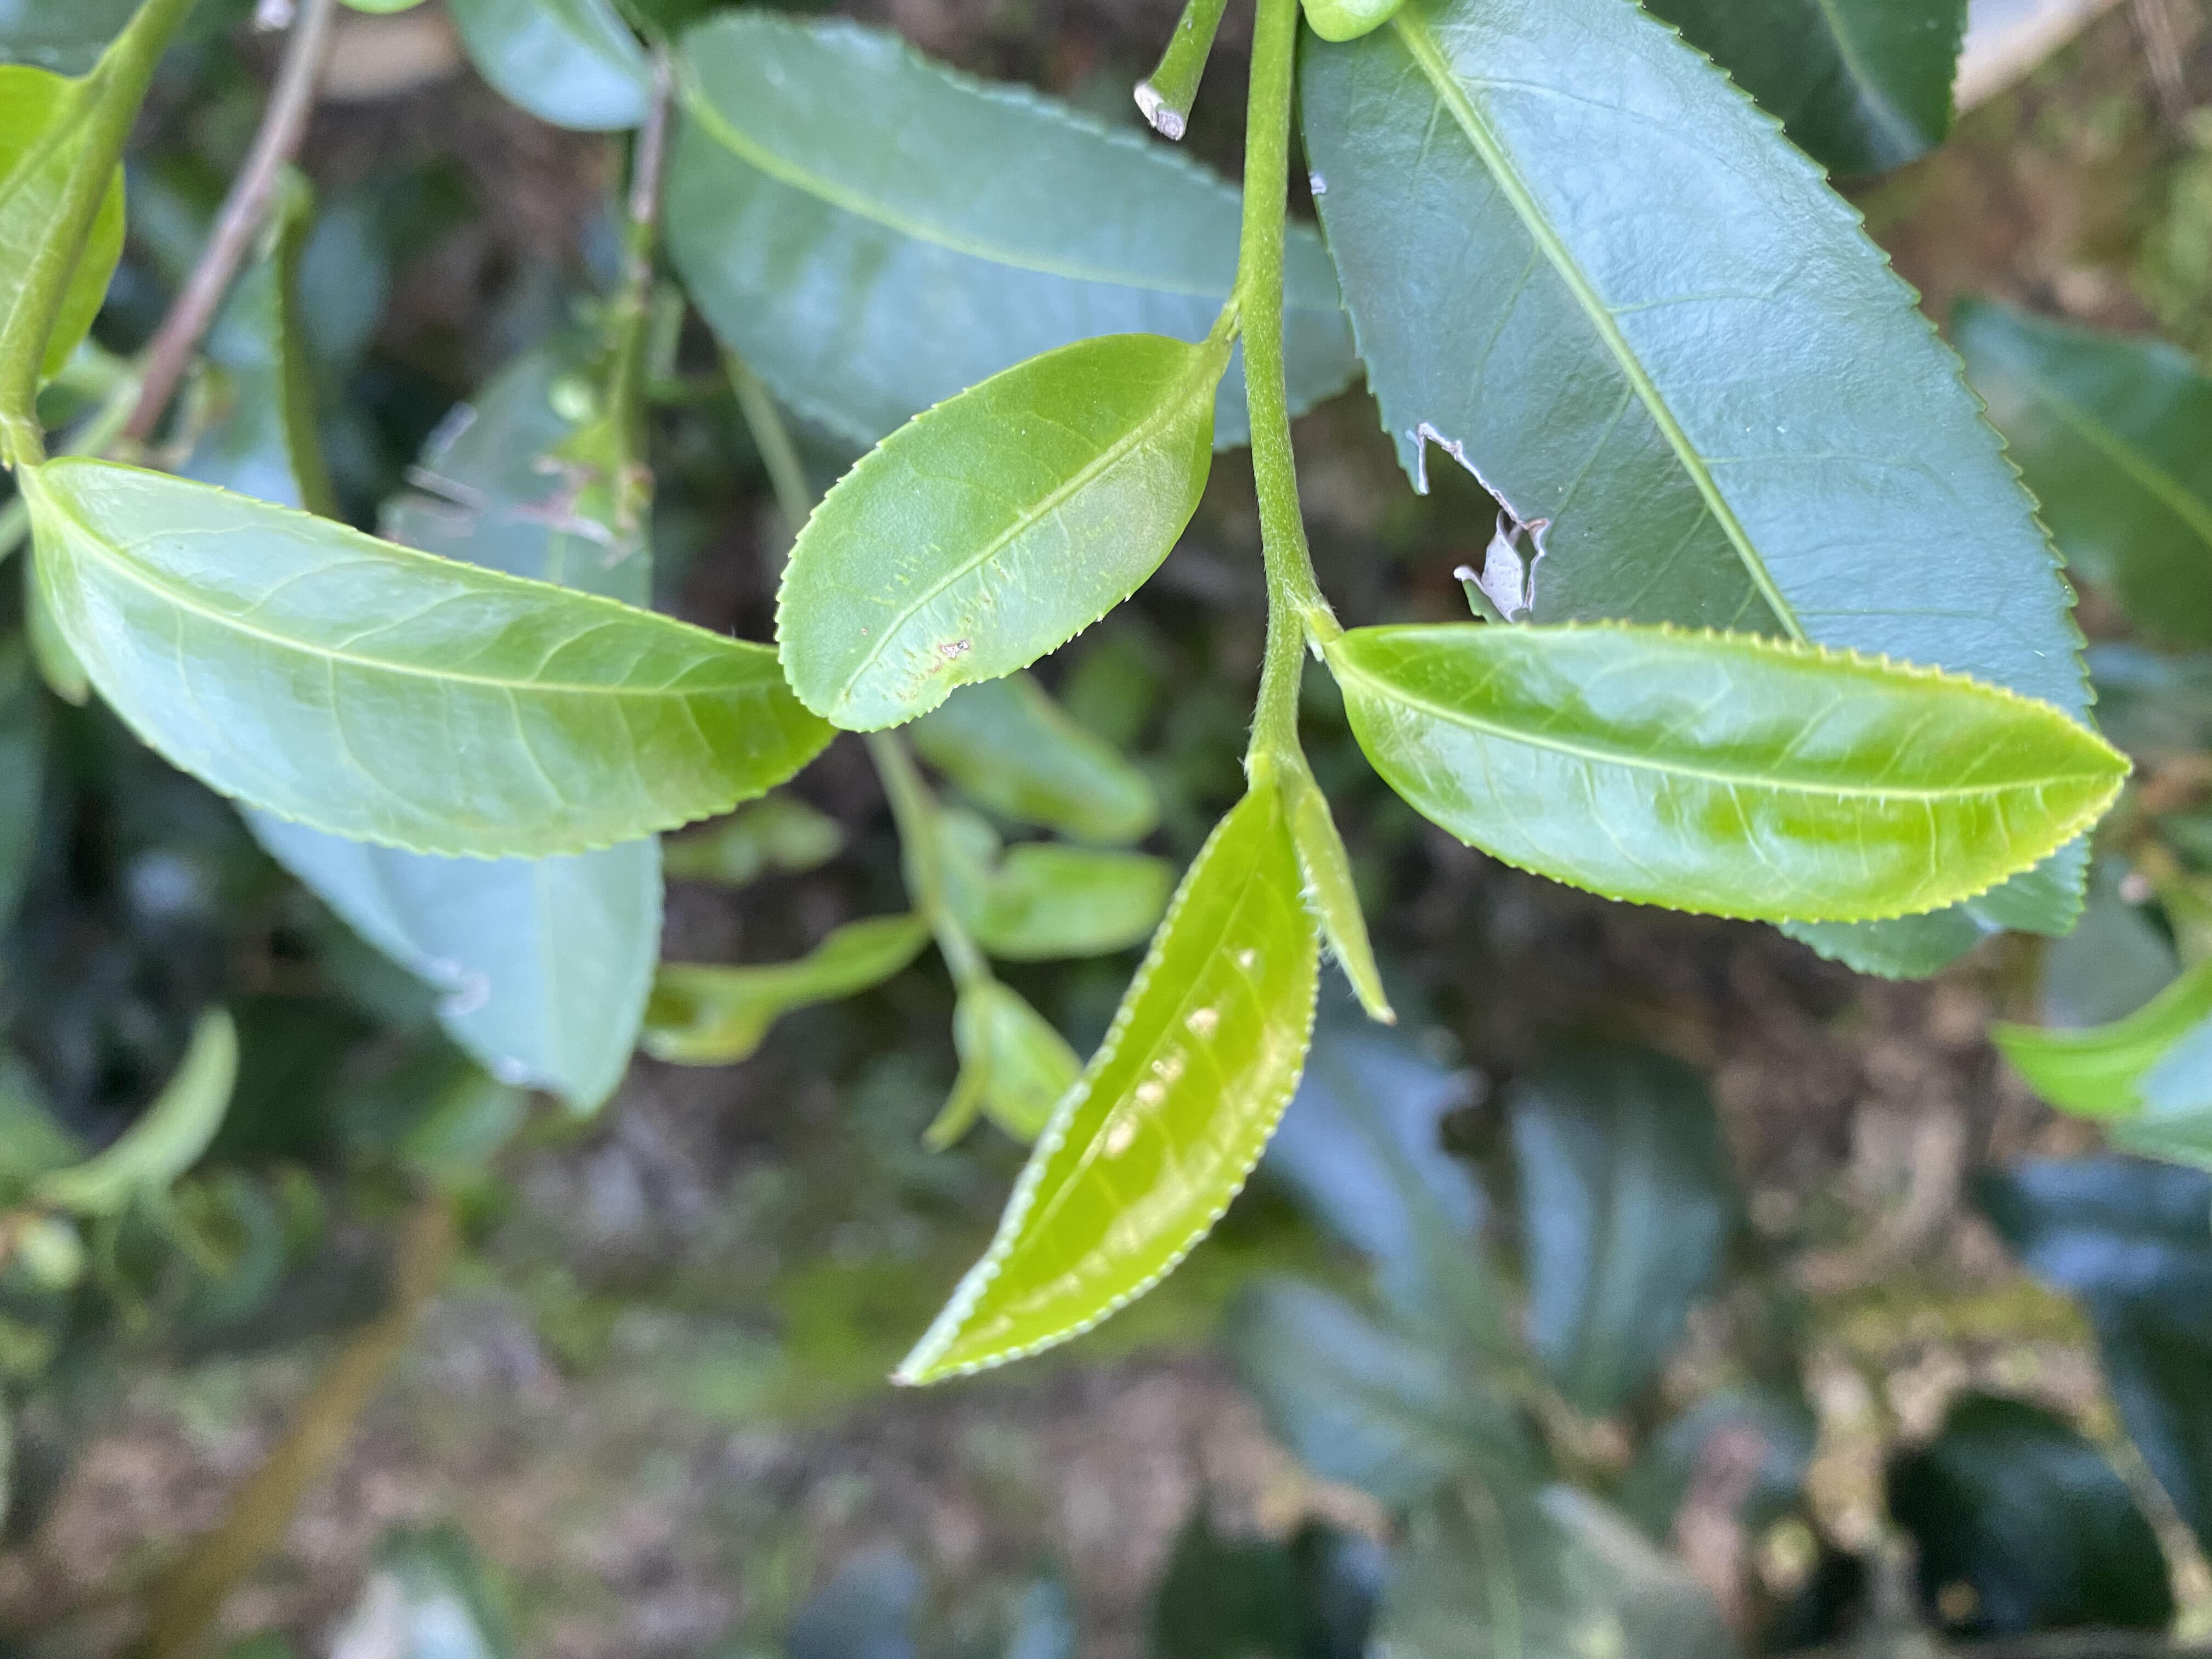chihuo_low: (1294, 3, 2104, 983)
healthy: (26, 453, 840, 864), (888, 798, 1325, 1391), (1332, 620, 2135, 929)
tanju_low: (775, 331, 1217, 735)
